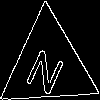N: (23, 40, 71, 97)
